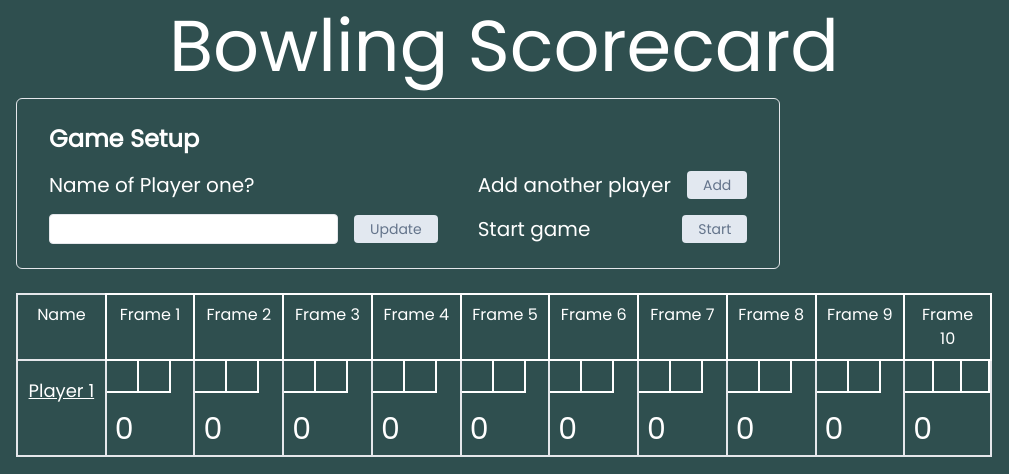
Test: Single player tests › Accumulated score calculations › total points calculate correcly for double strikes
Click the button with test id "start-game-btn": (715, 229) [682,215,747,243]
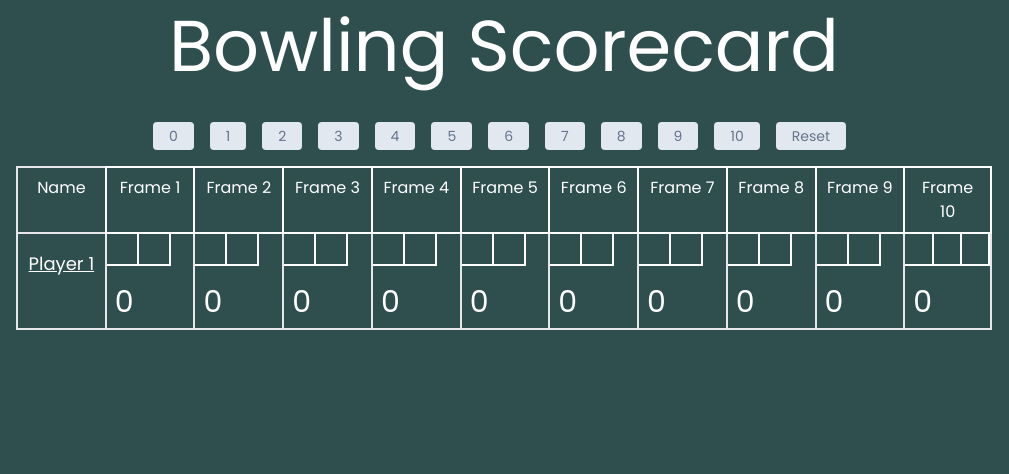
Click the button with test id "button-10": (737, 136) [714,122,759,150]
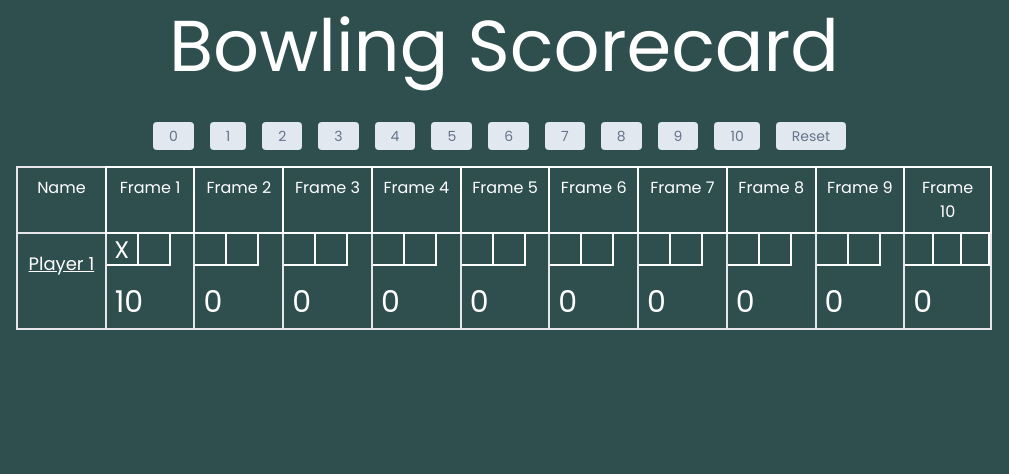
Click the button with test id "button-10": (737, 136) [714,122,759,150]
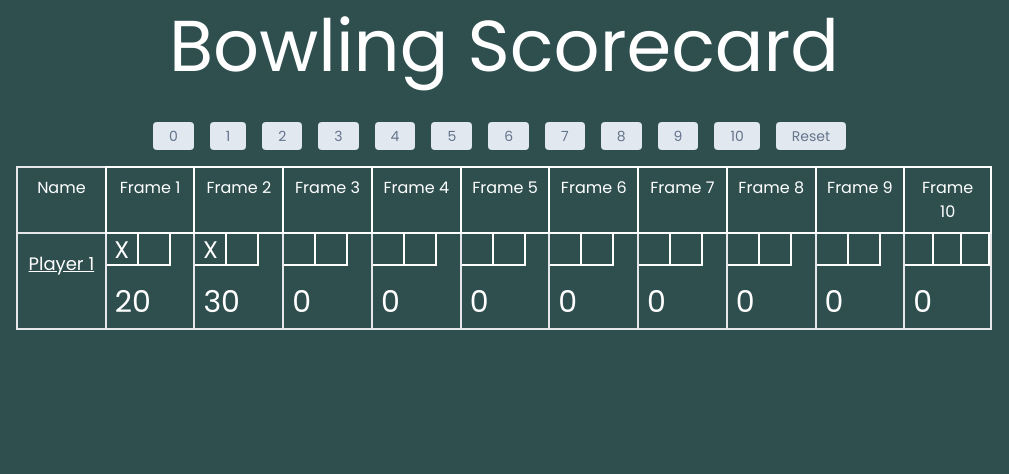
Click the button with test id "button-8": (622, 136) [601,122,642,150]
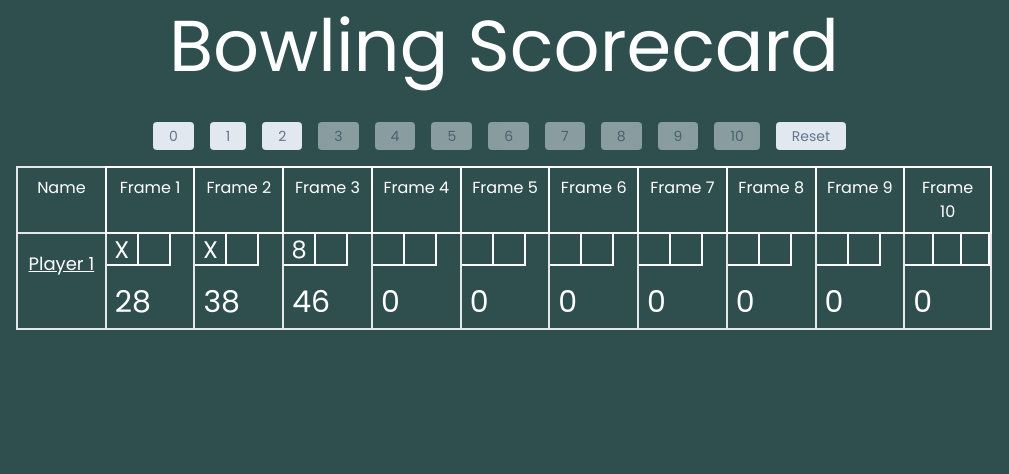
Expected: the text with test id "player-1-frame-1-total-score" reads "28", [115,281,151,323]
Expected: the text with test id "player-1-frame-2-total-score" reads "38", [204,281,241,323]
Expected: the text with test id "player-1-frame-3-total-score" reads "46", [292,281,330,323]
Click the button with test id "button-1": (229, 136) [210,122,247,150]
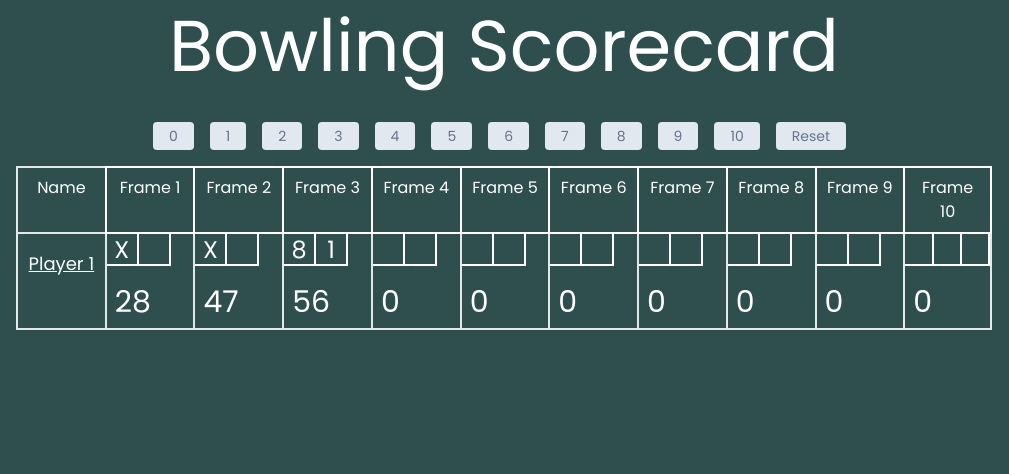
Expected: the text with test id "player-1-frame-1-total-score" reads "28", [115,281,151,323]
Expected: the text with test id "player-1-frame-2-total-score" reads "47", [204,281,239,323]
Expected: the text with test id "player-1-frame-3-total-score" reads "56", [292,281,330,323]
